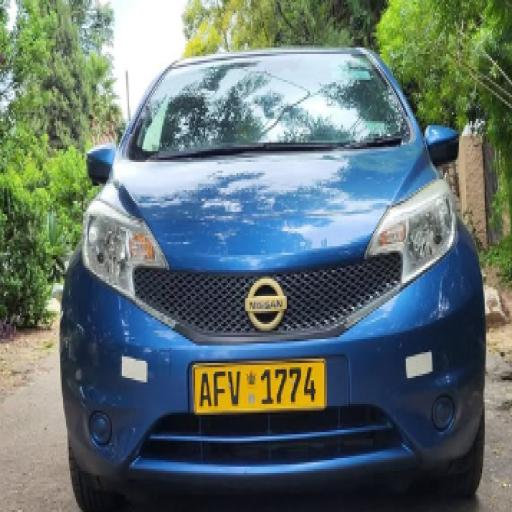number-plates: (191, 362, 320, 408)
